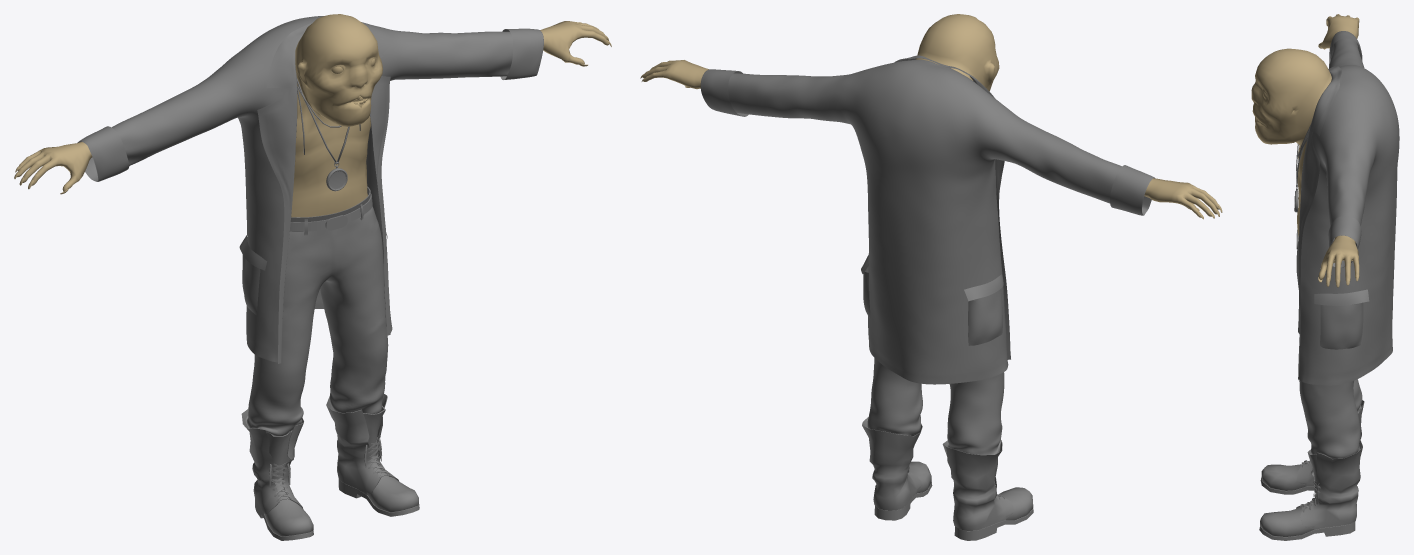
The model's file is B7H_SM_NewModel.fbx.
3 views of the same model, side by side, from view 1: azimuth 30°, elevation 25°; view 2: azimuth 150°, elevation 25°; view 3: azimuth 270°, elevation 25° (orthographic). The views are drawn at different scales.
Visible parts, largest first — view 1: B7H_PostRetopo028; view 2: B7H_PostRetopo028; view 3: B7H_PostRetopo028.
Part boxes in pixels (x1=…): B7H_PostRetopo028: x1=14, y1=14, x2=611, y2=540; B7H_PostRetopo028: x1=640, y1=14, x2=1222, y2=540; B7H_PostRetopo028: x1=1251, y1=14, x2=1399, y2=540.
Size of the model in its own units: 90.79 by 73.51 by 21.55.
